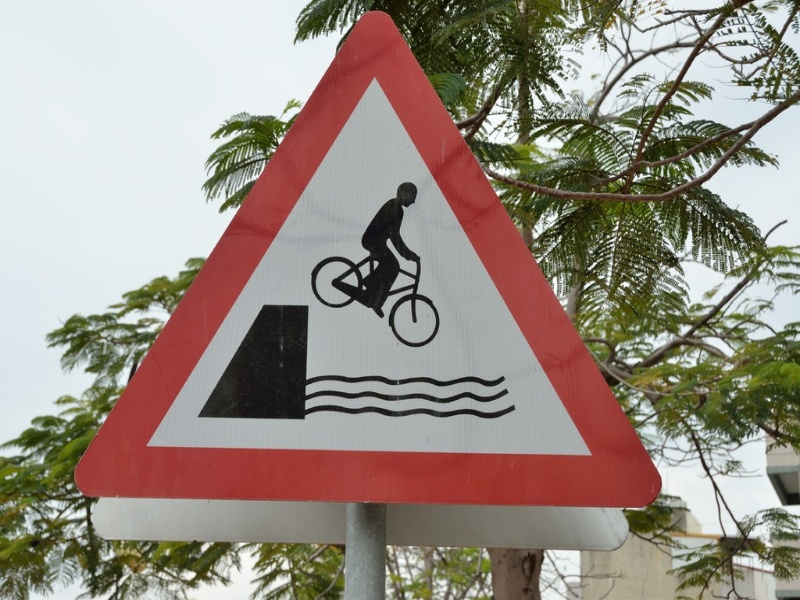cliff_edge: (75, 21, 669, 518)
